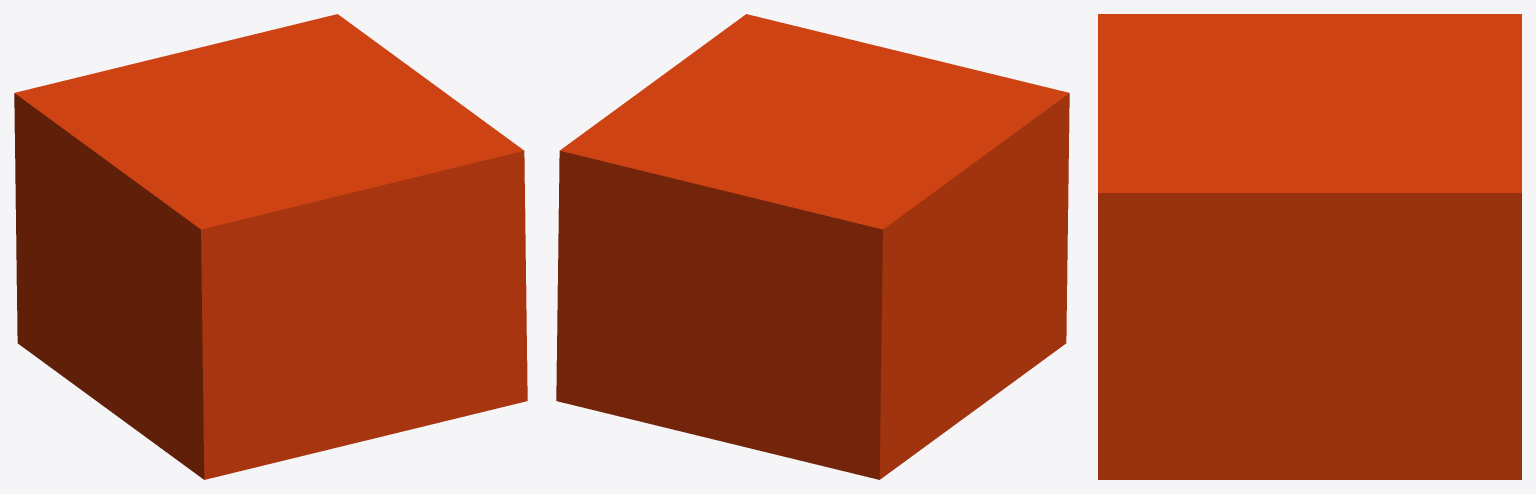
Rendered from 4x4 Support Pillar.fbx.
3 renders of one model, left to right at view 1: azimuth 30°, elevation 25°; view 2: azimuth 150°, elevation 25°; view 3: azimuth 270°, elevation 25°, orthographic. The views are drawn at different scales.
Visible parts, largest first — view 1: 4x4 Support pillar.088; view 2: 4x4 Support pillar.088; view 3: 4x4 Support pillar.088.
Part boxes in pixels (<box>): 4x4 Support pillar.088: <box>14,14,527,479</box>; 4x4 Support pillar.088: <box>556,14,1069,479</box>; 4x4 Support pillar.088: <box>1098,14,1521,479</box>.
Bounding box in the file's own units: 133 × 97.52 × 131.
